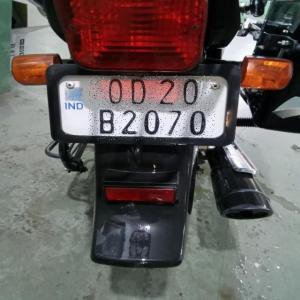Plate: (89, 75, 215, 140)
